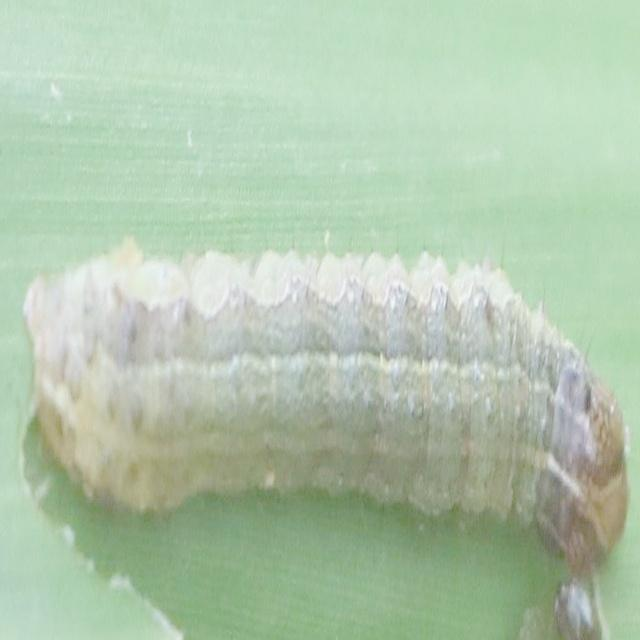Plaga: (22, 235, 629, 572)
